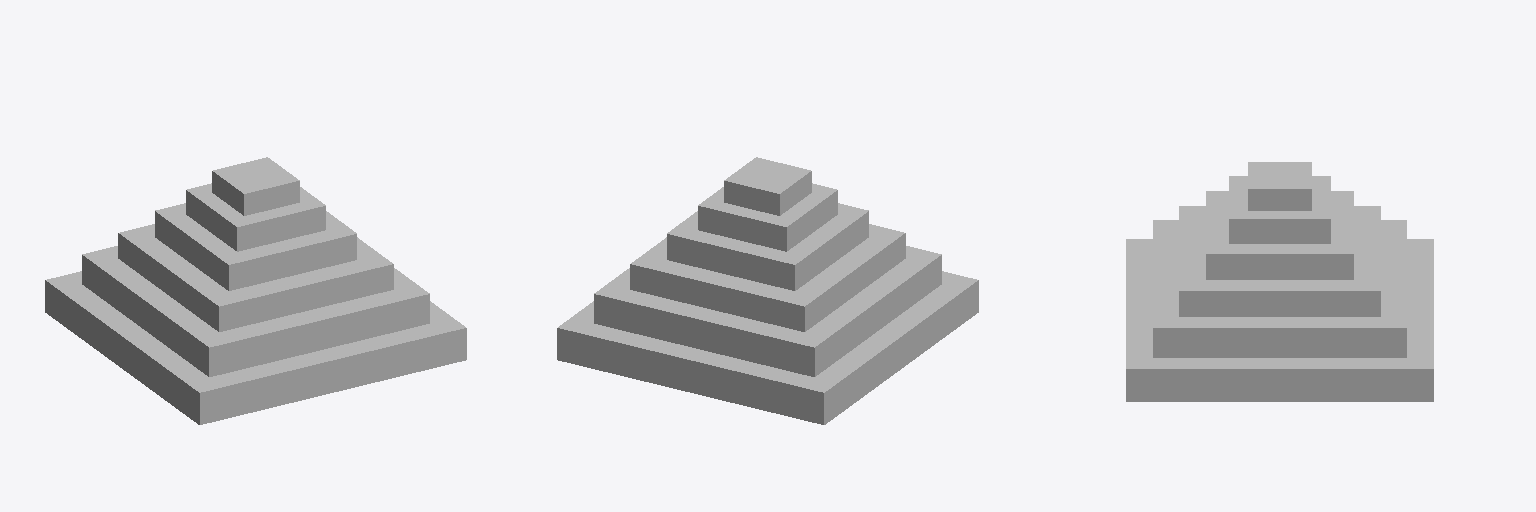
Rendered from pyramidbasemodel.obj.
The picture shows the model from 3 angles: view 1: azimuth 30°, elevation 25°; view 2: azimuth 150°, elevation 25°; view 3: azimuth 270°, elevation 25°; orthographic projection.
Parts seen in each view (by area): view 1: Cube; view 2: Cube; view 3: Cube.
Boxes of the visible parts, x1=… form: Cube: x1=45, y1=157, x2=466, y2=424; Cube: x1=557, y1=157, x2=978, y2=424; Cube: x1=1126, y1=162, x2=1433, y2=401.
Size of the model in its own units: 4.58 by 2.63 by 4.58.